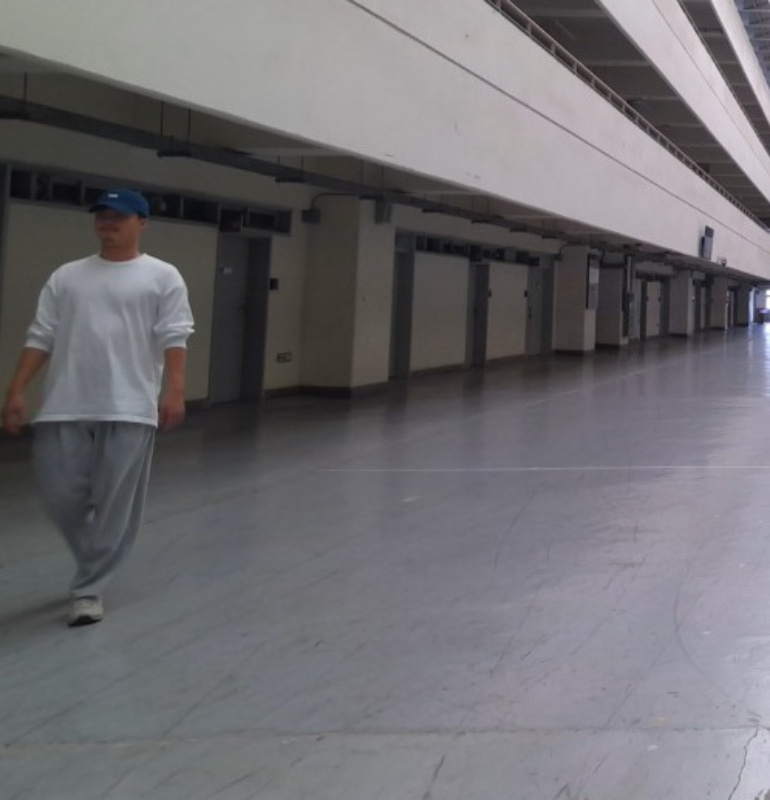person: (7, 185, 194, 628)
